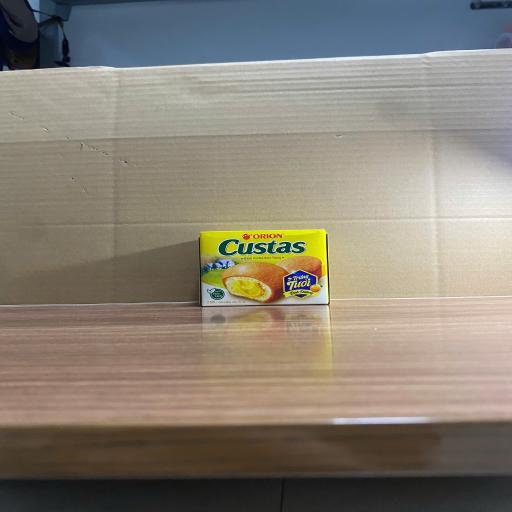custas: (199, 229, 330, 306)
